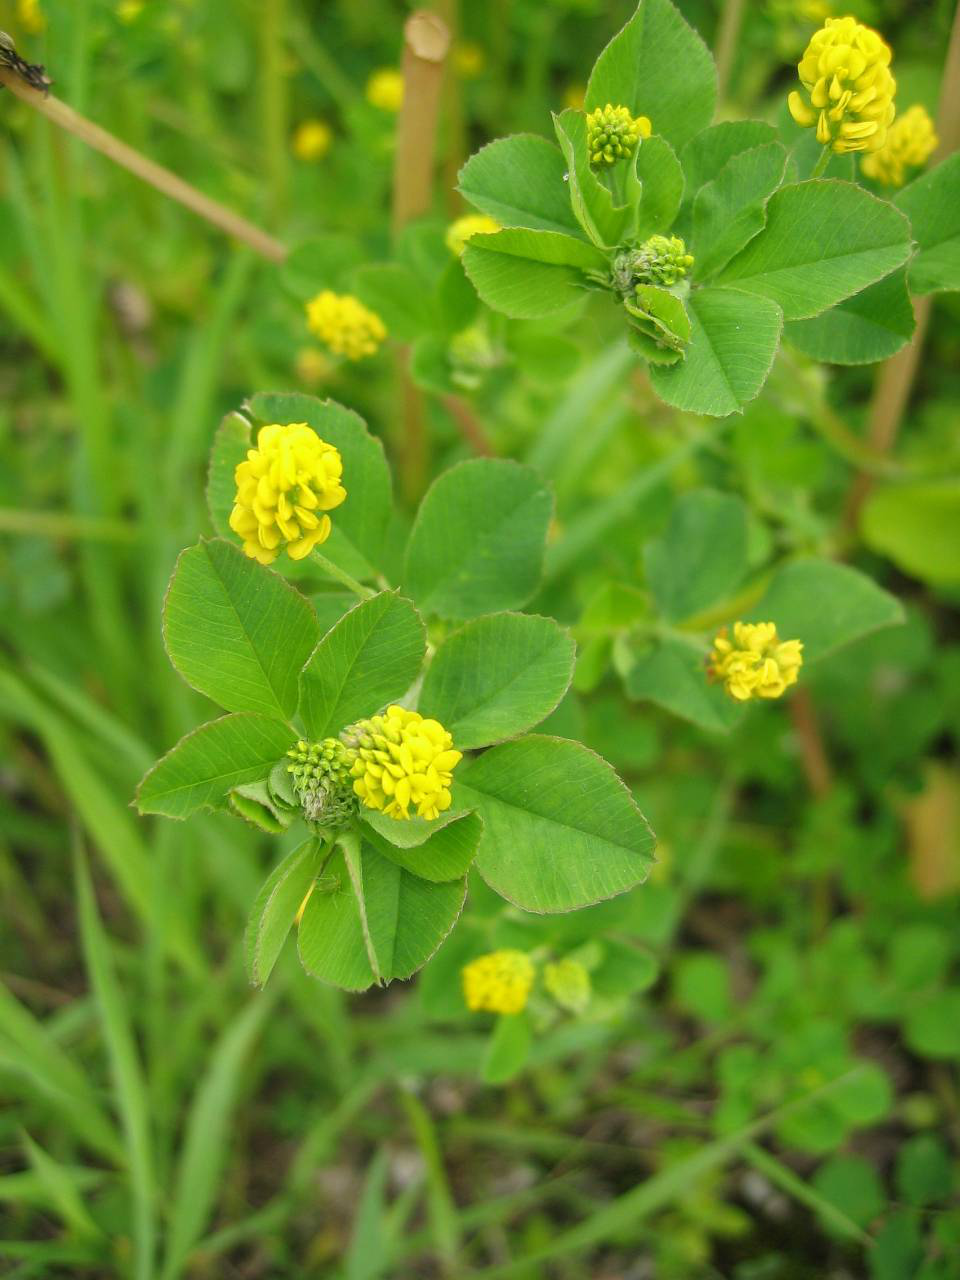clover: (153, 16, 924, 986)
